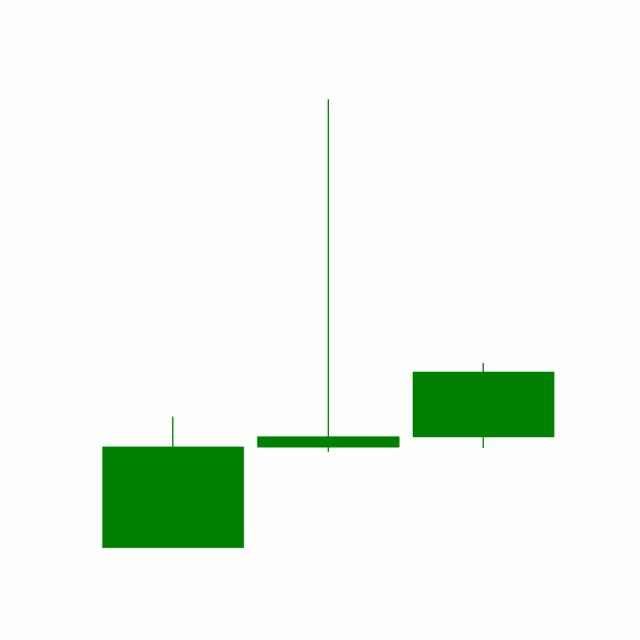Marubozu: (405, 361, 561, 449)
